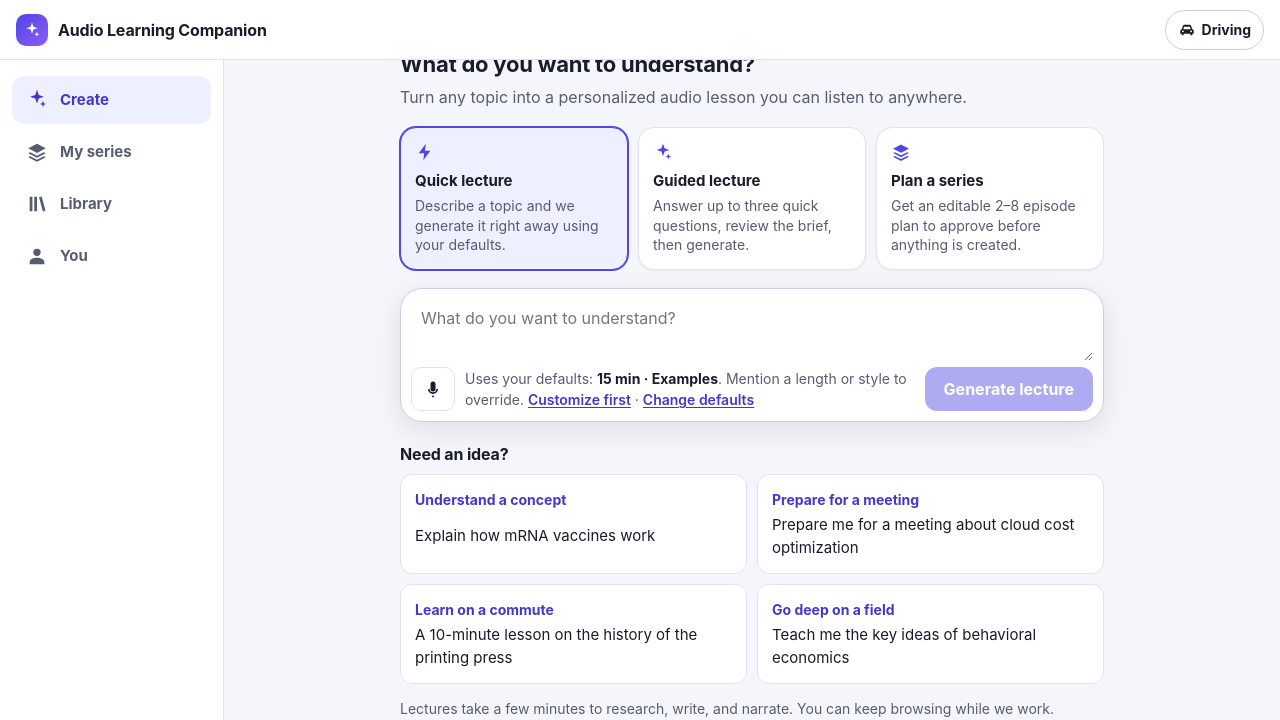
authenticated › opens on Create with clear modes and starter prompts
The width and height of the screenshot is (1280, 720).
(page scrolled)
Expected: the navigation bar named "Primary" is shown, [0,60,224,719]
Expected: the heading "What do you want to understand?" is shown, [400,51,755,77]
Click the button "Understand a concept Explain how mRNA vaccines work": (574, 524) [400,474,747,574]
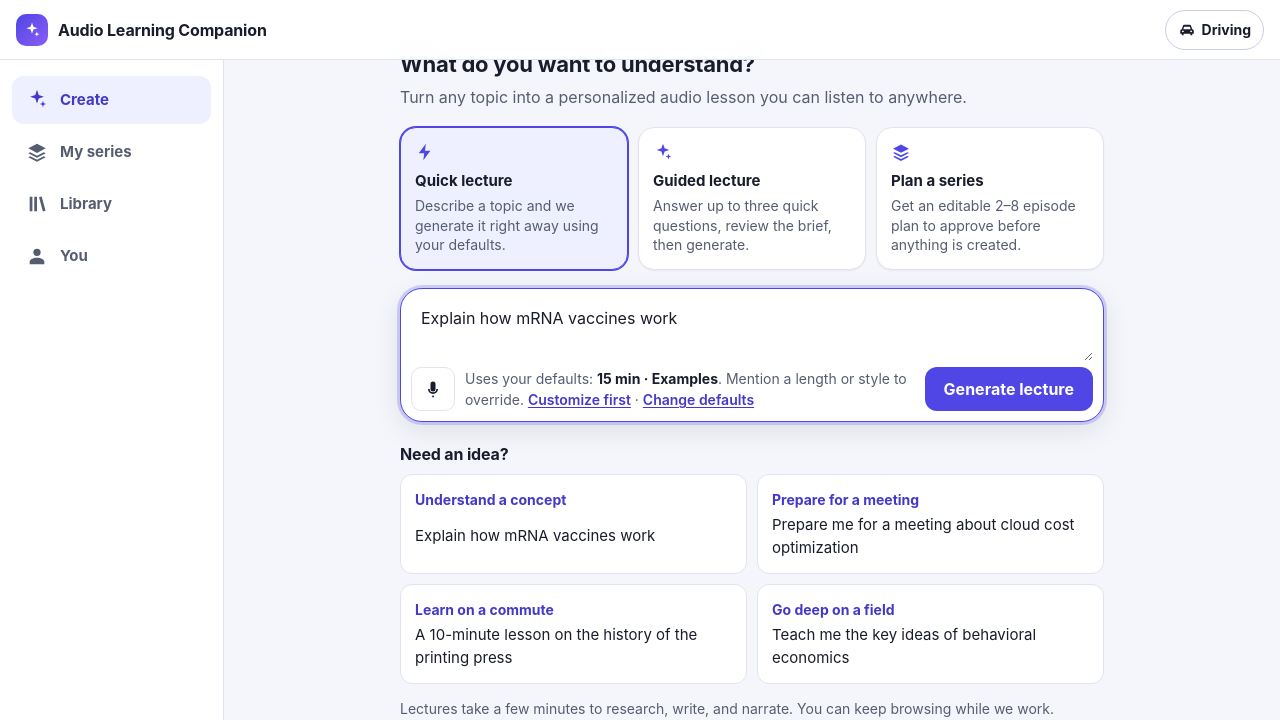
Expected: the text box holds "Explain how mRNA vaccines work", [411,299,1093,361]
